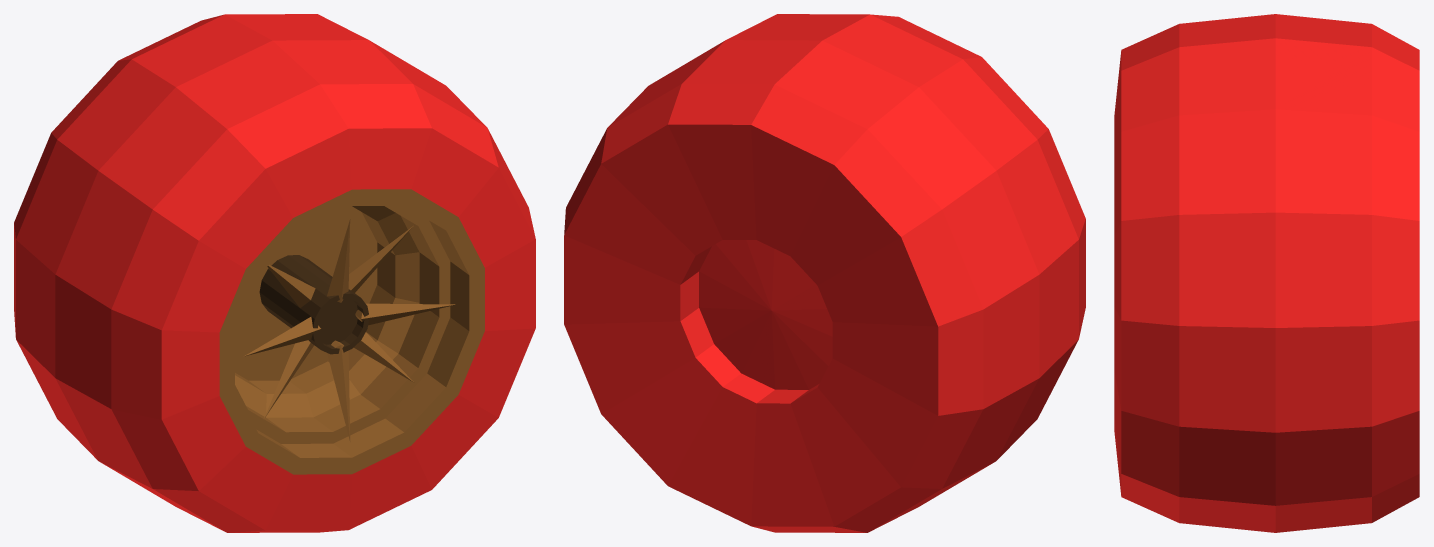
File: wheel40.fbx
The picture shows the model from 3 angles, left to right: view 1: azimuth 30°, elevation 25°; view 2: azimuth 150°, elevation 25°; view 3: azimuth 270°, elevation 25°; orthographic projection.
Visible parts, largest first — view 1: lanot_wheel39_L; view 2: lanot_wheel39_L; view 3: lanot_wheel39_L.
Part boxes in pixels (left/top/right/bottom): lanot_wheel39_L: left=14, top=14, right=535, bottom=532; lanot_wheel39_L: left=564, top=14, right=1085, bottom=532; lanot_wheel39_L: left=1114, top=14, right=1419, bottom=532.
Bounding box in the file's own units: 152 × 156 × 91.65.
